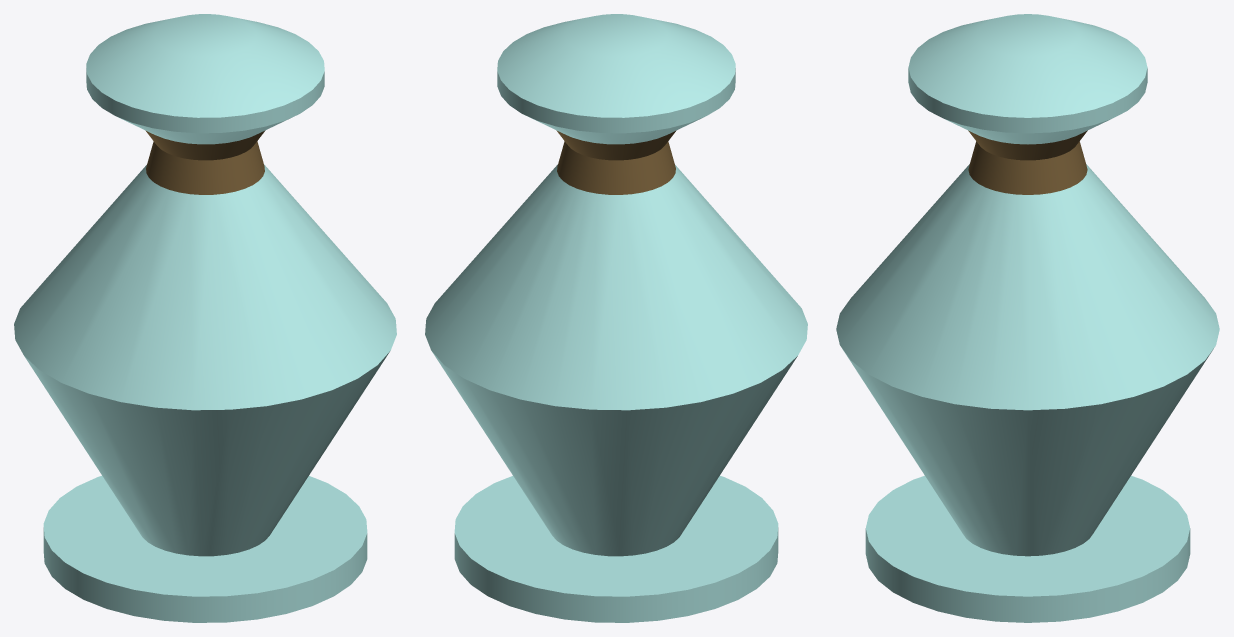
File: iksir6.fbx
3 views of the same model, side by side, from view 1: azimuth 30°, elevation 25°; view 2: azimuth 150°, elevation 25°; view 3: azimuth 270°, elevation 25° (orthographic).
Parts seen in each view (by area): view 1: iksir6; view 2: iksir6; view 3: iksir6.
Boxes of the visible parts, x1,y1,x2,y2 form: iksir6: [14, 14, 396, 622]; iksir6: [425, 14, 807, 622]; iksir6: [836, 14, 1219, 622].
Bounding box in the file's own units: 197 × 294 × 197.
